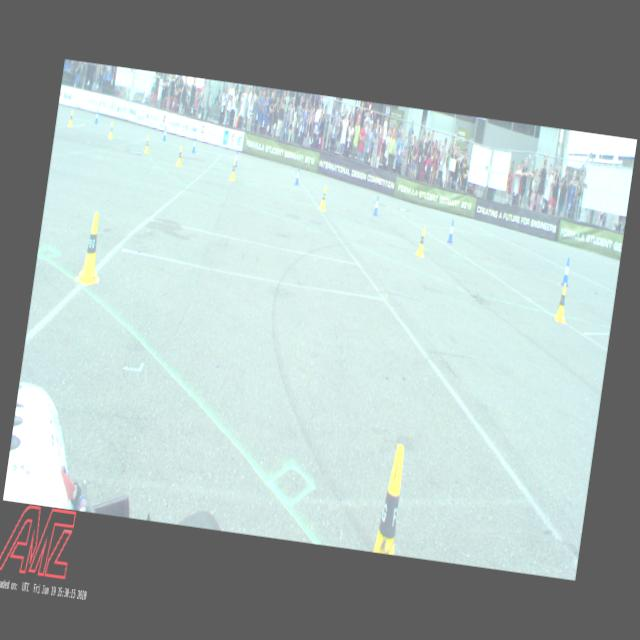blue_cone: (561, 258, 572, 287), (447, 220, 456, 244), (294, 167, 302, 186), (373, 195, 380, 216), (234, 150, 240, 168), (162, 125, 168, 142), (192, 137, 198, 153), (94, 110, 100, 124)
yellow_cone: (374, 443, 409, 555), (76, 211, 108, 285), (554, 282, 570, 322), (416, 228, 426, 256), (319, 186, 328, 210), (230, 159, 238, 181), (177, 146, 184, 166), (144, 136, 151, 154), (108, 122, 115, 138), (68, 110, 74, 126)
